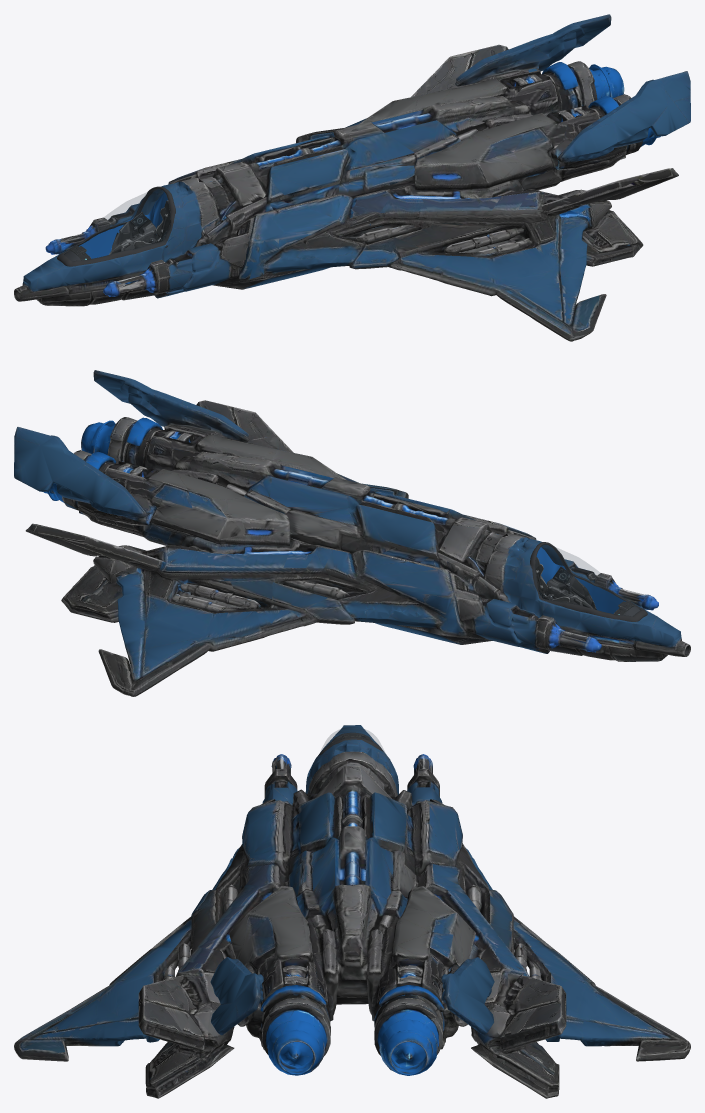
The model's file is syphon.glb.
The picture shows the model from 3 angles, top to bottom: view 1: azimuth 30°, elevation 25°; view 2: azimuth 150°, elevation 25°; view 3: azimuth 270°, elevation 25°; orthographic projection. The views are drawn at different scales.
Visible parts, largest first — view 1: syphon_game_hull, syphon_game_glass, syphon_game_cockpit, syphon_game_canopy_frame, syphon_game_tub; view 2: syphon_game_hull, syphon_game_glass, syphon_game_cockpit, syphon_game_canopy_frame, syphon_game_tub; view 3: syphon_game_hull.
Boxes of the visible parts, x1=… form: syphon_game_hull: x1=14, y1=14, x2=690, y2=341; syphon_game_glass: x1=63, y1=189, x2=171, y2=261; syphon_game_cockpit: x1=109, y1=200, x2=170, y2=254; syphon_game_canopy_frame: x1=57, y1=186, x2=175, y2=266; syphon_game_tub: x1=79, y1=192, x2=188, y2=258; syphon_game_hull: x1=14, y1=370, x2=690, y2=696; syphon_game_glass: x1=533, y1=545, x2=641, y2=615; syphon_game_cockpit: x1=535, y1=557, x2=596, y2=609; syphon_game_canopy_frame: x1=530, y1=542, x2=647, y2=621; syphon_game_tub: x1=514, y1=547, x2=625, y2=613; syphon_game_hull: x1=14, y1=725, x2=690, y2=1098.
Bounding box in the file's own units: 1.9 × 0.424 × 1.43.
Materials: 8 (3 with a texture image).
